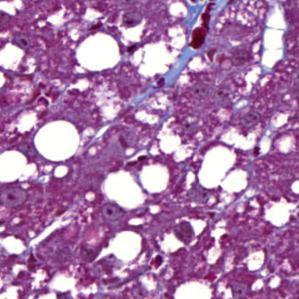steatosis: (34, 118, 85, 159), (74, 36, 121, 71)
